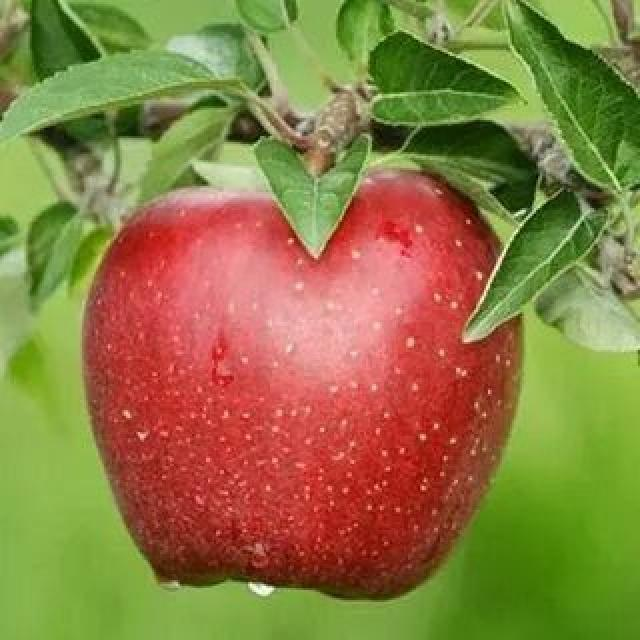Fresh Apple: (75, 178, 505, 594)
